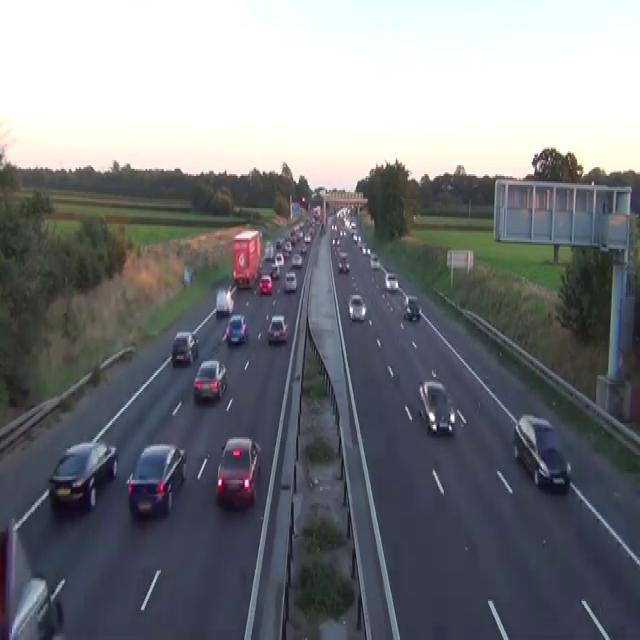Car: (0, 518, 66, 638), (48, 439, 118, 510), (513, 412, 571, 492), (125, 443, 186, 517), (9, 574, 65, 638), (216, 436, 261, 508), (418, 378, 455, 436), (193, 359, 227, 400), (171, 331, 199, 366), (225, 313, 247, 345), (267, 315, 287, 343), (215, 288, 234, 316), (348, 293, 366, 322), (404, 295, 420, 320), (283, 270, 297, 292), (258, 274, 272, 295), (381, 291, 393, 313), (384, 272, 398, 290), (337, 251, 349, 272), (183, 265, 195, 284), (263, 240, 274, 260), (274, 250, 284, 266), (291, 252, 302, 266), (370, 252, 379, 268), (270, 263, 279, 279), (282, 240, 291, 256), (441, 182, 455, 190), (332, 235, 340, 247), (275, 238, 283, 249), (362, 244, 370, 254), (304, 233, 311, 242), (350, 220, 356, 230), (352, 233, 358, 243), (300, 244, 306, 254), (320, 220, 324, 234), (366, 247, 371, 256)
Truck: (232, 229, 261, 288)
